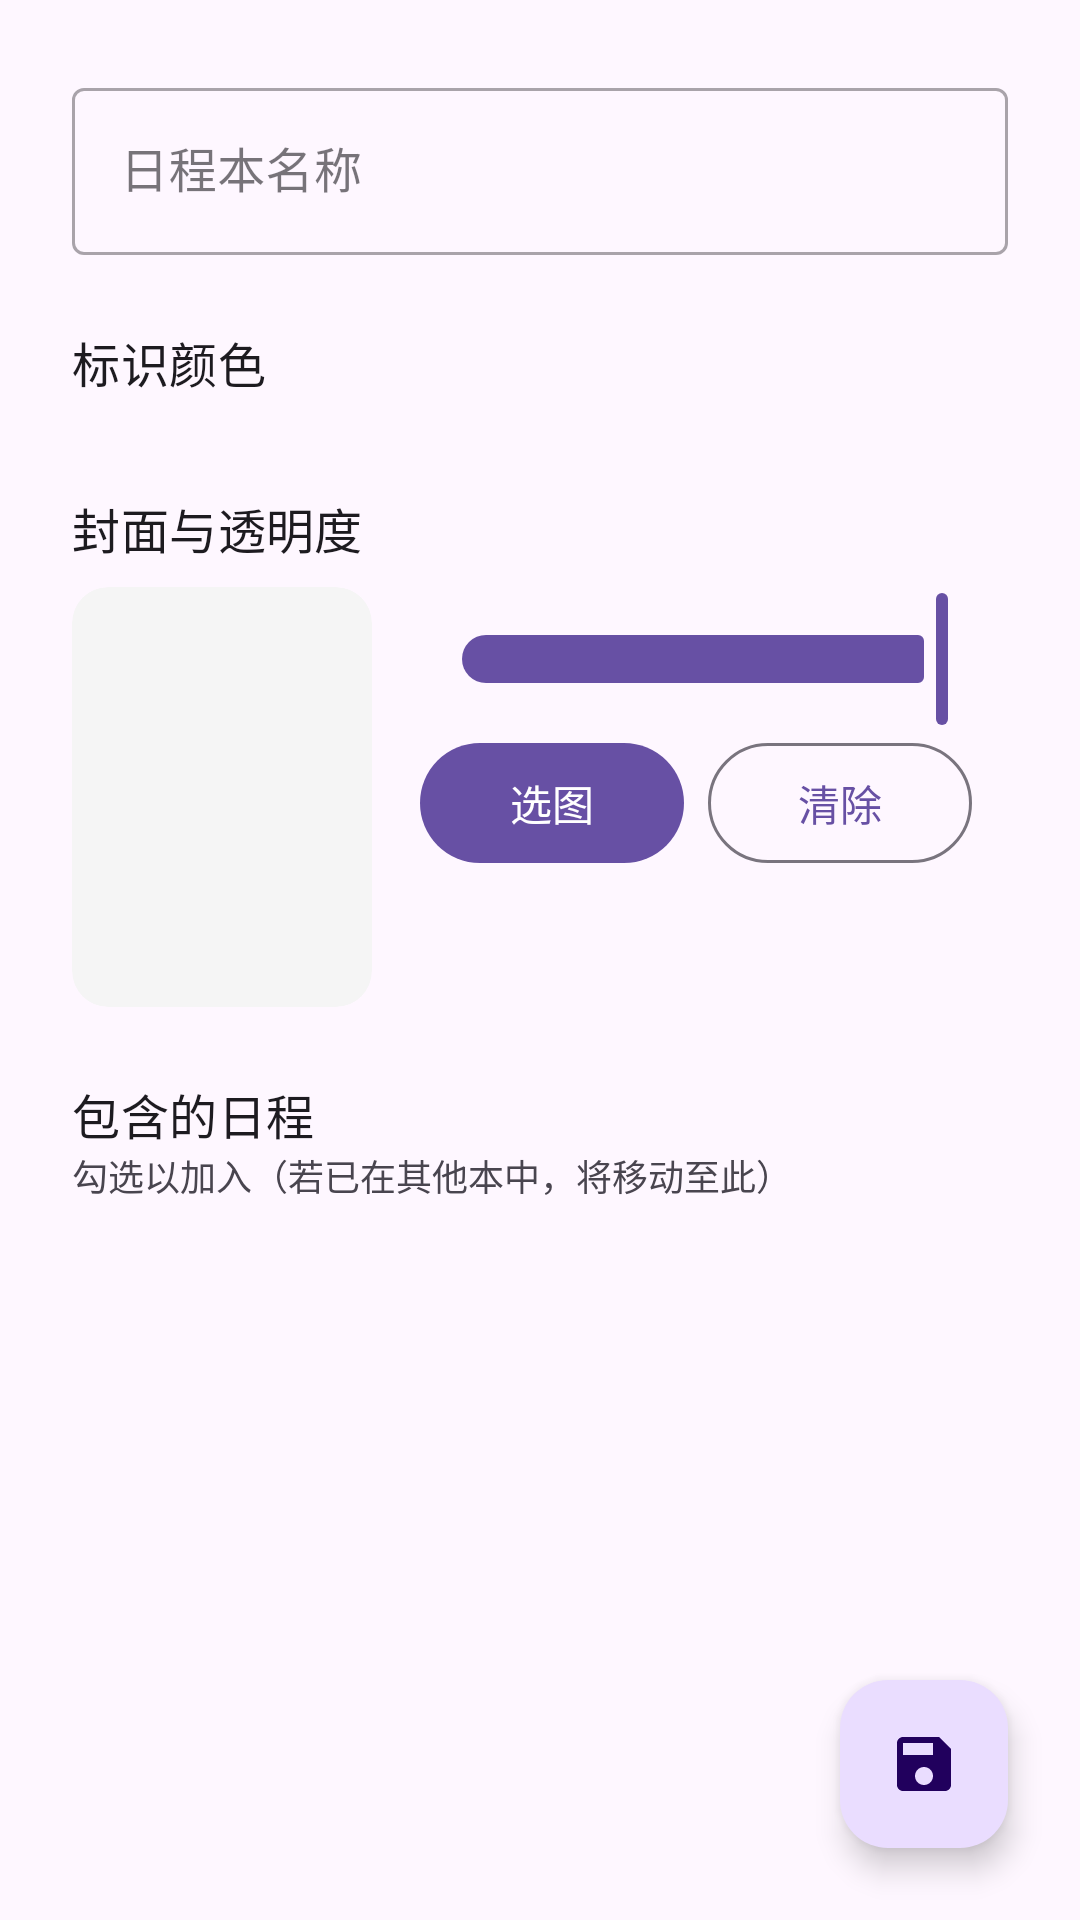

Screen size 1080 × 1920. Icon name, then its center in pixels as (x=x, y=y):
save: (x=924, y=1764)
